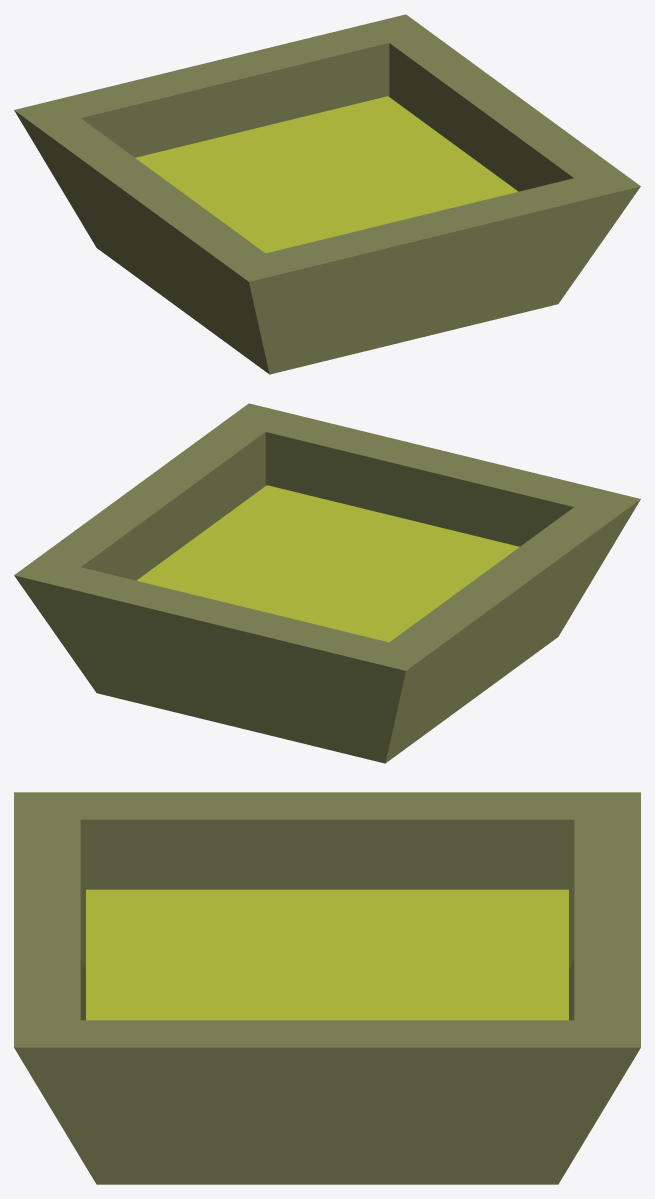
The model's file is Food Bowl 05.FBX.
3 views of the same model, one above another, from view 1: azimuth 30°, elevation 25°; view 2: azimuth 150°, elevation 25°; view 3: azimuth 270°, elevation 25° (orthographic). The views are drawn at different scales.
Parts seen in each view (by area): view 1: Food Bowl 05; view 2: Food Bowl 05; view 3: Food Bowl 05.
Boxes of the visible parts, x1,y1,x2,y2 form: Food Bowl 05: (14,14,640,374); Food Bowl 05: (14,403,640,763); Food Bowl 05: (14,792,640,1184).
Size of the model in its own units: 81.85 by 25.51 by 84.94.
